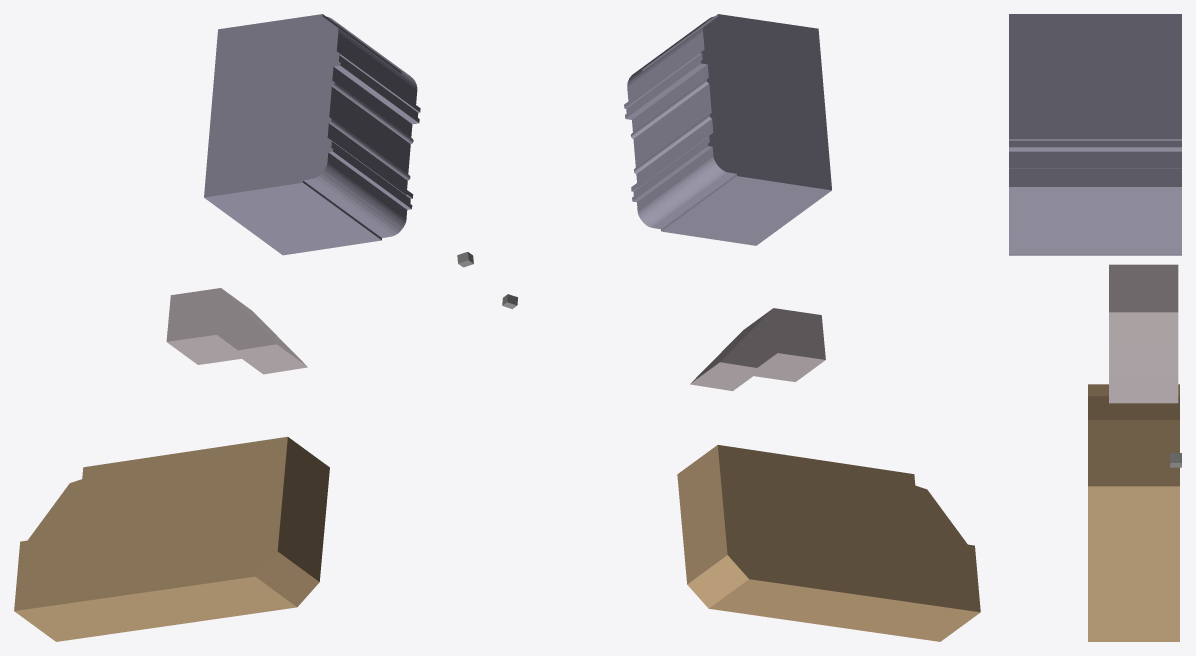
3 renders of one model, left to right at view 1: azimuth 30°, elevation 25°; view 2: azimuth 150°, elevation 25°; view 3: azimuth 270°, elevation 25°, orthographic. The views are drawn at different scales.
Parts seen in each view (by area): view 1: 0_3_2_2_3_1_1; view 2: 0_3_2_2_3_1_1; view 3: 0_3_2_2_3_1_1.
Boxes of the visible parts, <box> form: 0_3_2_2_3_1_1: <box>14,14,473,641</box>; 0_3_2_2_3_1_1: <box>502,14,980,641</box>; 0_3_2_2_3_1_1: <box>1009,14,1181,641</box>.
Bounding box in the file's own units: 150 × 175 × 45.
